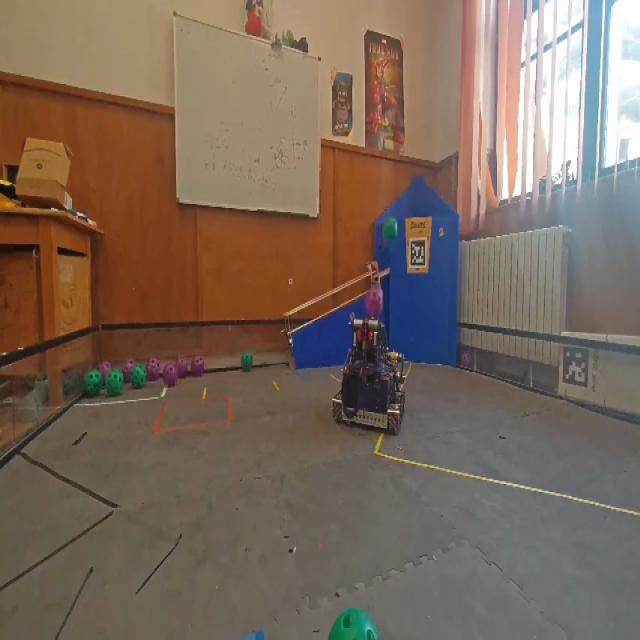artifact_green: (329, 608, 379, 639), (63, 370, 83, 395), (84, 370, 102, 397), (106, 370, 124, 397), (131, 364, 146, 389), (98, 360, 112, 385), (383, 218, 397, 242), (241, 352, 253, 371), (287, 30, 295, 43)
artifact_purple: (365, 284, 382, 319), (163, 364, 178, 387), (121, 359, 135, 382), (147, 359, 161, 381), (99, 360, 111, 383), (191, 356, 204, 377), (177, 356, 188, 378)
